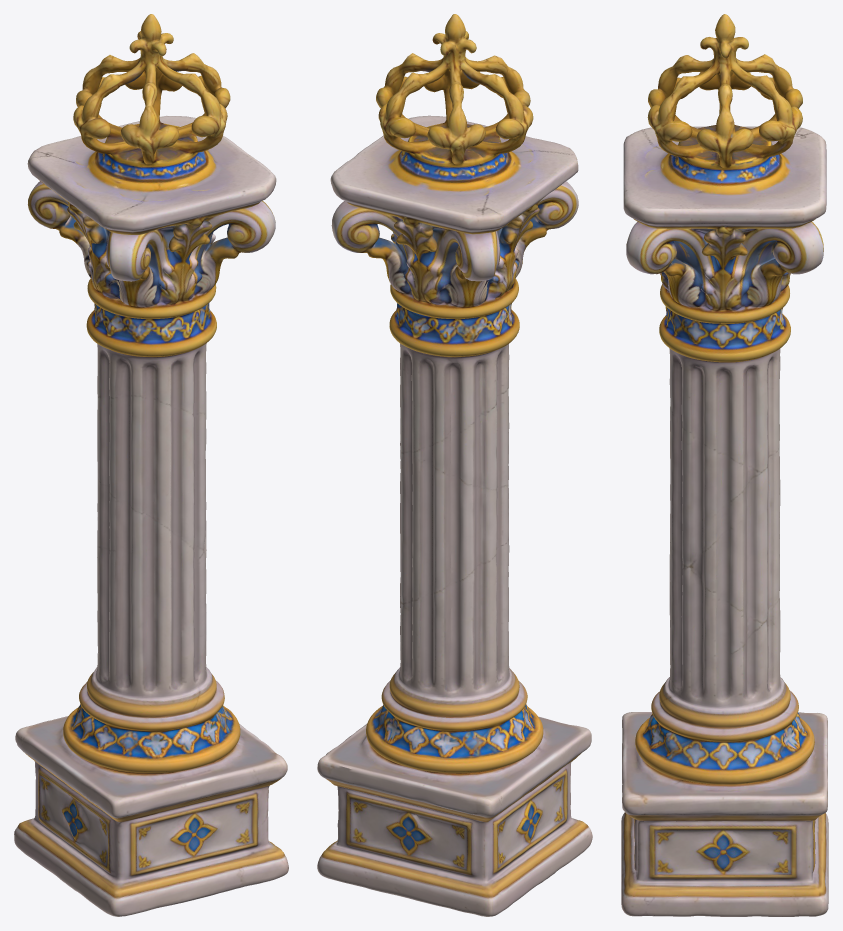
The picture shows the model from 3 angles, left to right: view 1: azimuth 30°, elevation 25°; view 2: azimuth 150°, elevation 25°; view 3: azimuth 270°, elevation 25°; orthographic projection.
Parts seen in each view (by area): view 1: tripo_node_66a4bd1c-97c0-4f69-a89c-f559d60956ae; view 2: tripo_node_66a4bd1c-97c0-4f69-a89c-f559d60956ae; view 3: tripo_node_66a4bd1c-97c0-4f69-a89c-f559d60956ae.
Boxes of the visible parts, x1,y1,x2,y2 form: tripo_node_66a4bd1c-97c0-4f69-a89c-f559d60956ae: (14, 14, 288, 916); tripo_node_66a4bd1c-97c0-4f69-a89c-f559d60956ae: (317, 14, 592, 916); tripo_node_66a4bd1c-97c0-4f69-a89c-f559d60956ae: (621, 14, 828, 916).
Size of the model in its own units: 0.2149 by 0.9745 by 0.2129.
Materials: 1 (1 with a texture image).
